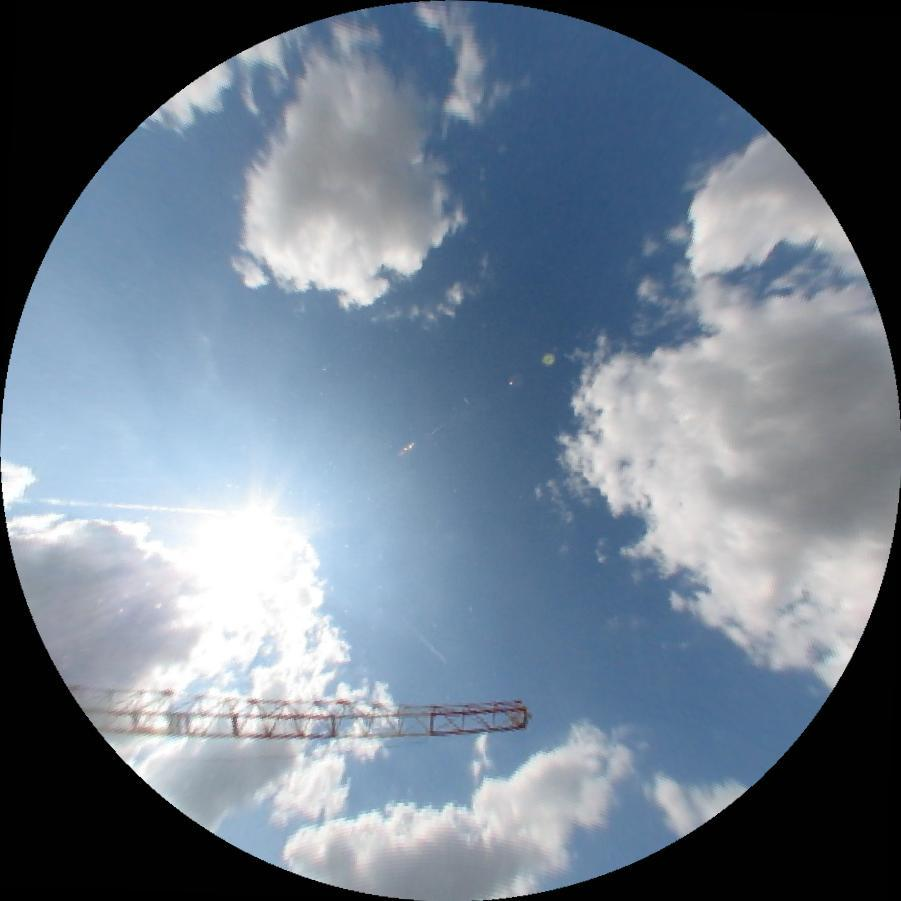contrail young: (399, 613, 447, 664)
parasite: (4, 494, 289, 522)
sun: (188, 496, 290, 604)
